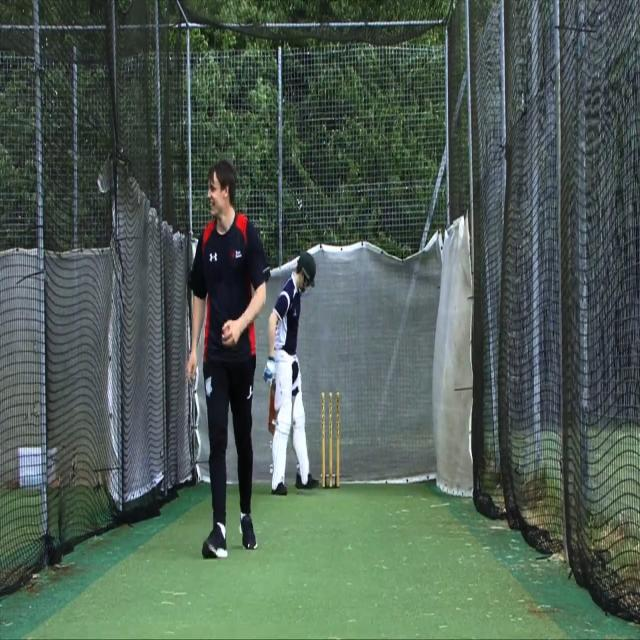batsman: (261, 250, 321, 497)
